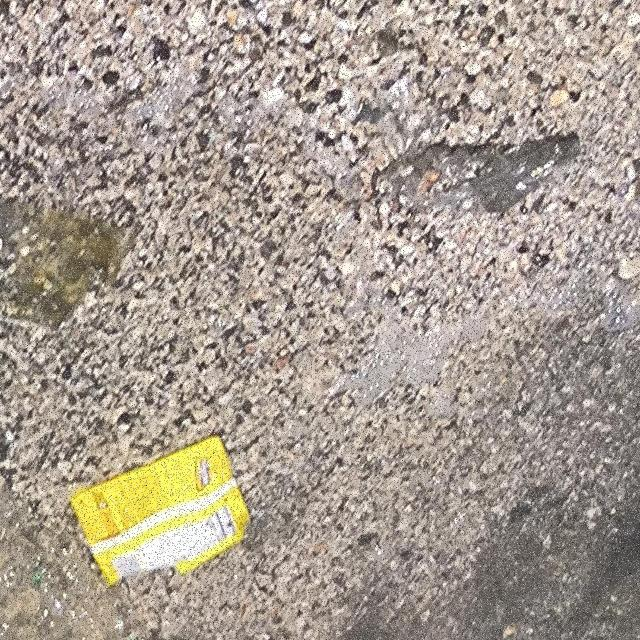plastic_waste: (69, 435, 253, 588)
